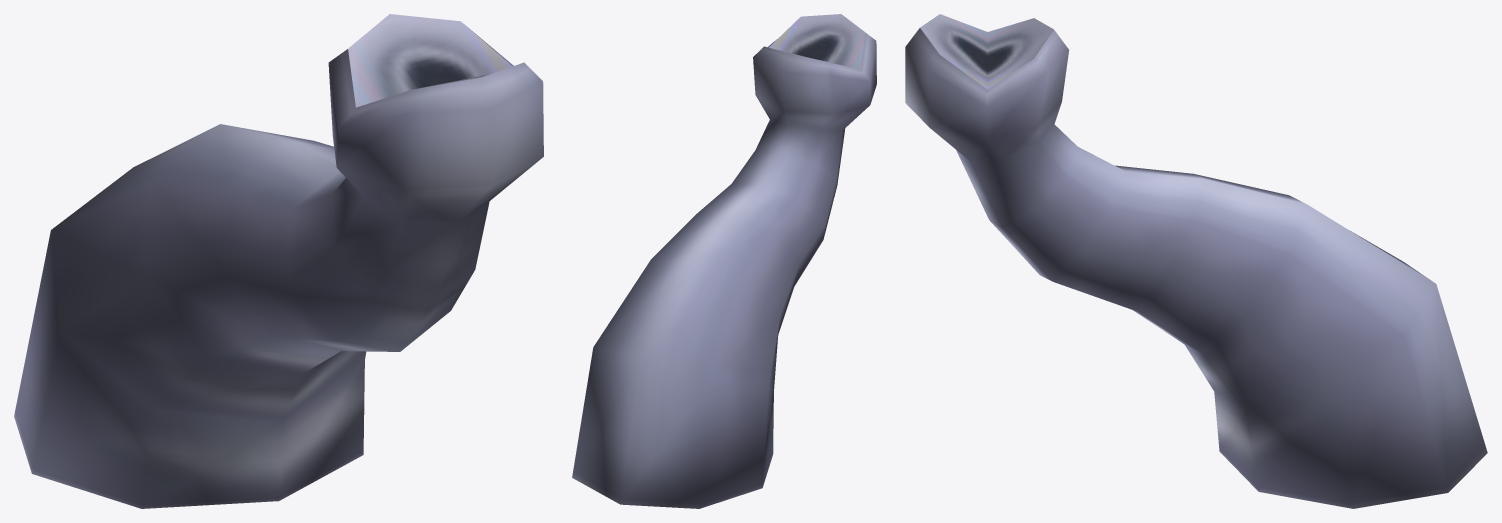
The model's file is elephant.glb.
3 renders of one model, left to right at view 1: azimuth 30°, elevation 25°; view 2: azimuth 150°, elevation 25°; view 3: azimuth 270°, elevation 25°, orthographic. The views are drawn at different scales.
Visible parts, largest first — view 1: elephant; view 2: elephant; view 3: elephant.
Boxes of the visible parts, left/top/right/bottom form: elephant: left=14, top=14, right=543, bottom=508; elephant: left=572, top=14, right=876, bottom=508; elephant: left=905, top=14, right=1487, bottom=508.
Bounding box in the file's own units: 3.36 × 5.87 × 7.29.
2 materials, 2 textured.
